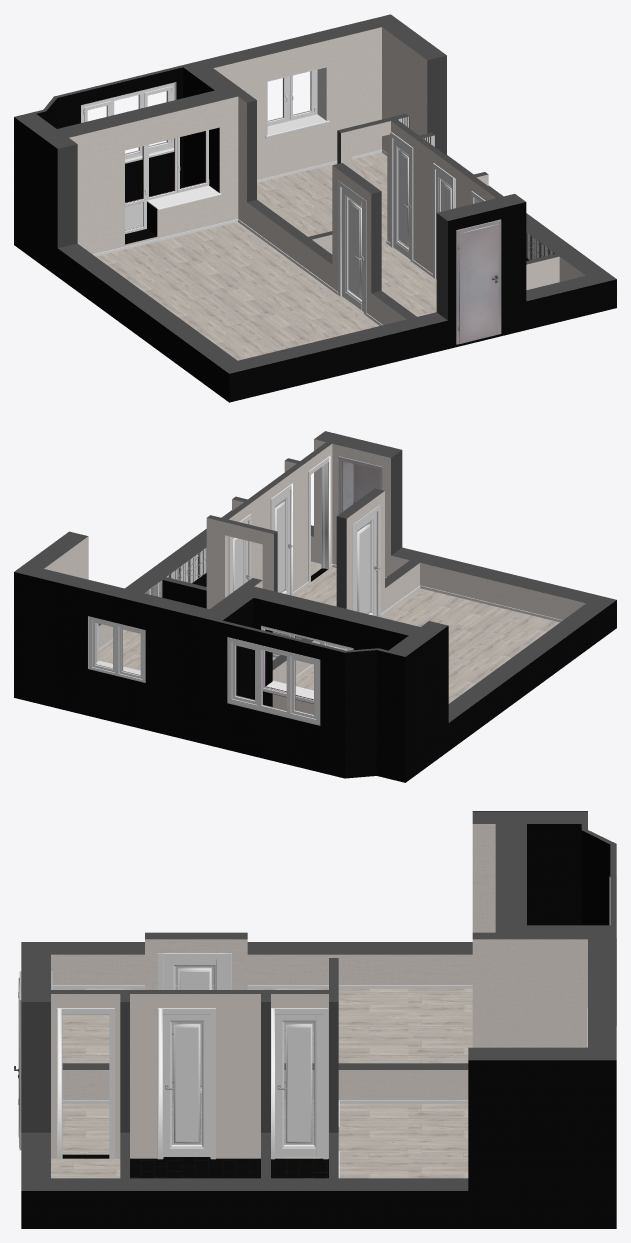
File: appss (1).glb
The picture shows the model from 3 angles, top to bottom: view 1: azimuth 30°, elevation 25°; view 2: azimuth 150°, elevation 25°; view 3: azimuth 270°, elevation 25°; orthographic projection. The views are drawn at different scales.
Visible parts, largest first — view 1: Cube, Plane.001_Door_0, Window, window_2, _111111_white_plastic_matte_0, фил 126, Plane.002, _222222_white_plastic_matte_0, фил 126.002, Cube.001, Line711.002, Shape3105 (+2 smaller); view 2: Cube, _111111_white_plastic_matte_0, _222222_white_plastic_matte_0, фил 126, Plane.002, Window, фил 126.001, Line711, Plane.001_Door_0, Cube.001, Shape3108, Line711.004 (+4 smaller); view 3: Cube, фил 125.001, фил 125.002, Line640.001, Line640.003, Line640.002, Shape3108.002, Cube.001, Shape3105.001, Shape3105.002, Shape3108.001, фил 125 (+2 smaller).
Boxes of the visible parts, x1=… form: Cube: x1=14, y1=14, x2=616, y2=402; Plane.001_Door_0: x1=458, y1=224, x2=498, y2=343; Window: x1=125, y1=130, x2=221, y2=233; window_2: x1=265, y1=66, x2=329, y2=138; _111111_white_plastic_matte_0: x1=81, y1=83, x2=174, y2=159; фил 126: x1=348, y1=199, x2=361, y2=298; Plane.002: x1=456, y1=219, x2=501, y2=344; _222222_white_plastic_matte_0: x1=267, y1=69, x2=317, y2=126; фил 126.002: x1=398, y1=150, x2=408, y2=247; Cube.001: x1=93, y1=219, x2=382, y2=325; Line711.002: x1=390, y1=132, x2=413, y2=262; Shape3105: x1=342, y1=188, x2=350, y2=298; Cube: x1=14, y1=431, x2=616, y2=782; _111111_white_plastic_matte_0: x1=227, y1=637, x2=319, y2=723; _222222_white_plastic_matte_0: x1=88, y1=616, x2=145, y2=682; фил 126: x1=357, y1=523, x2=370, y2=613; Plane.002: x1=338, y1=456, x2=382, y2=514; Window: x1=261, y1=625, x2=353, y2=703; фил 126.001: x1=275, y1=501, x2=285, y2=592; Line711: x1=352, y1=504, x2=380, y2=617; Plane.001_Door_0: x1=353, y1=464, x2=379, y2=503; Cube.001: x1=286, y1=585, x2=562, y2=683; Shape3108: x1=368, y1=512, x2=376, y2=616; Line711.004: x1=308, y1=455, x2=330, y2=583; Cube: x1=21, y1=811, x2=616, y2=1228; фил 125.001: x1=173, y1=1024, x2=200, y2=1143; фил 125.002: x1=286, y1=1024, x2=312, y2=1143; Line640.001: x1=157, y1=1008, x2=215, y2=1159; Line640.003: x1=57, y1=1008, x2=114, y2=1159; Line640.002: x1=271, y1=1008, x2=328, y2=1159; Shape3108.002: x1=275, y1=1014, x2=284, y2=1156; Cube.001: x1=52, y1=985, x2=472, y2=988; Shape3105.001: x1=202, y1=1014, x2=210, y2=1156; Shape3105.002: x1=314, y1=1014, x2=322, y2=1156; Shape3108.001: x1=163, y1=1014, x2=171, y2=1156; фил 125: x1=178, y1=968, x2=211, y2=1086.
Size of the model in its own units: 38.53 by 12.17 by 39.43.
26 materials, 6 textured.
